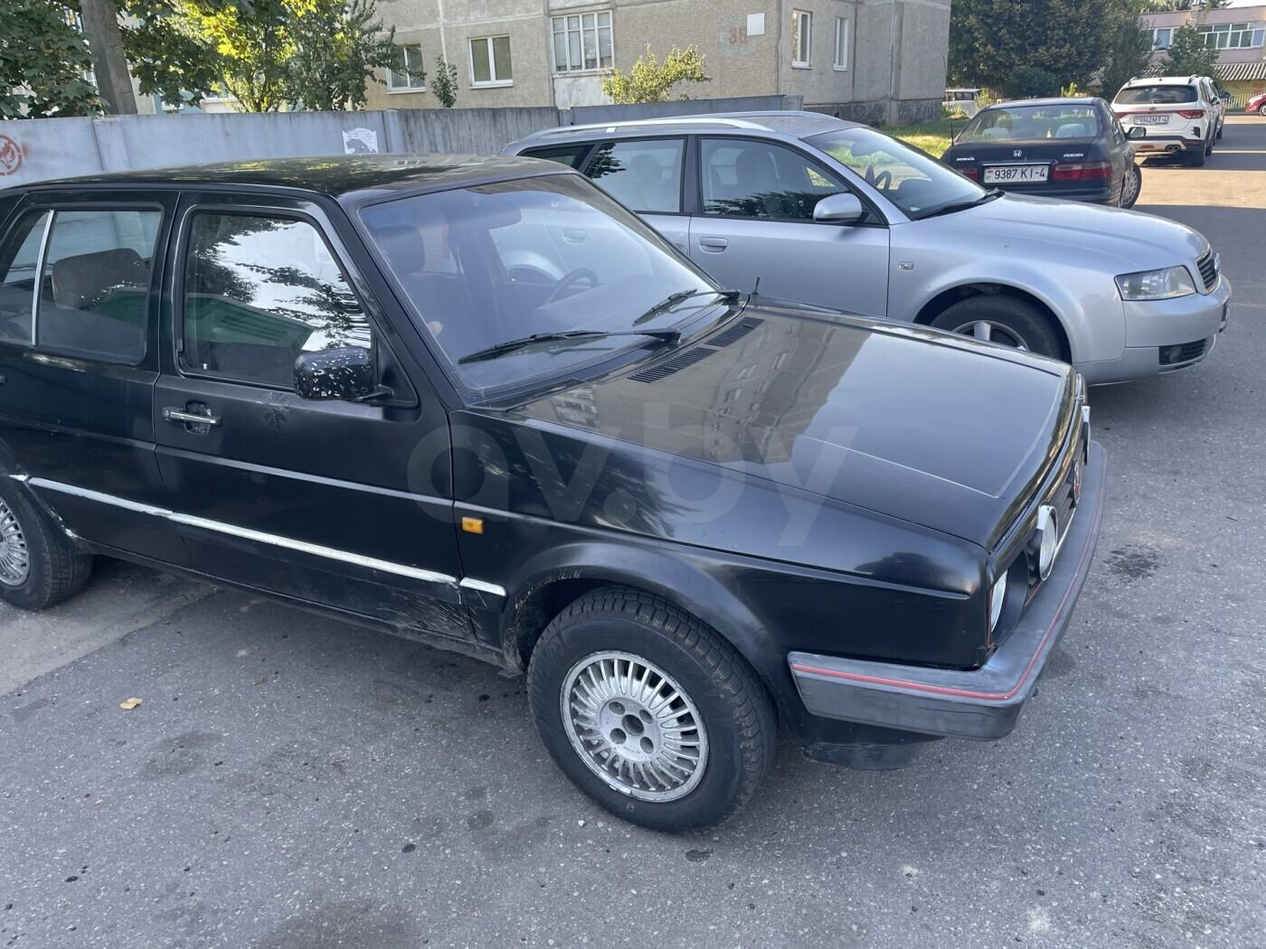Golf_1983-1992: (0, 152, 1113, 830)
